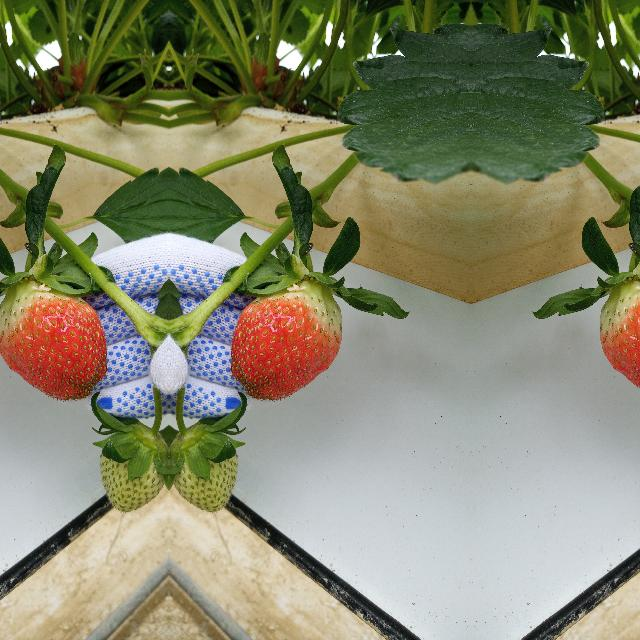Health_100: (228, 281, 342, 401), (0, 281, 107, 401), (599, 281, 640, 401)
